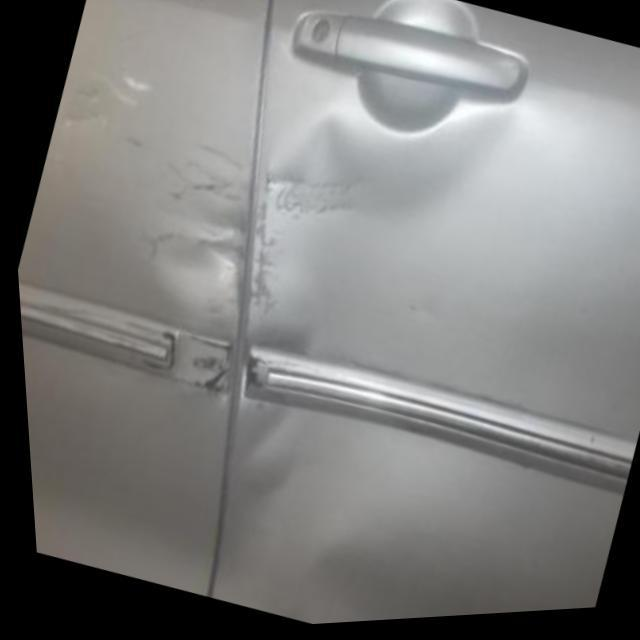dent: (109, 123, 362, 322), (230, 324, 325, 499), (261, 117, 383, 243), (281, 534, 401, 627), (172, 332, 264, 410), (59, 66, 115, 145)
